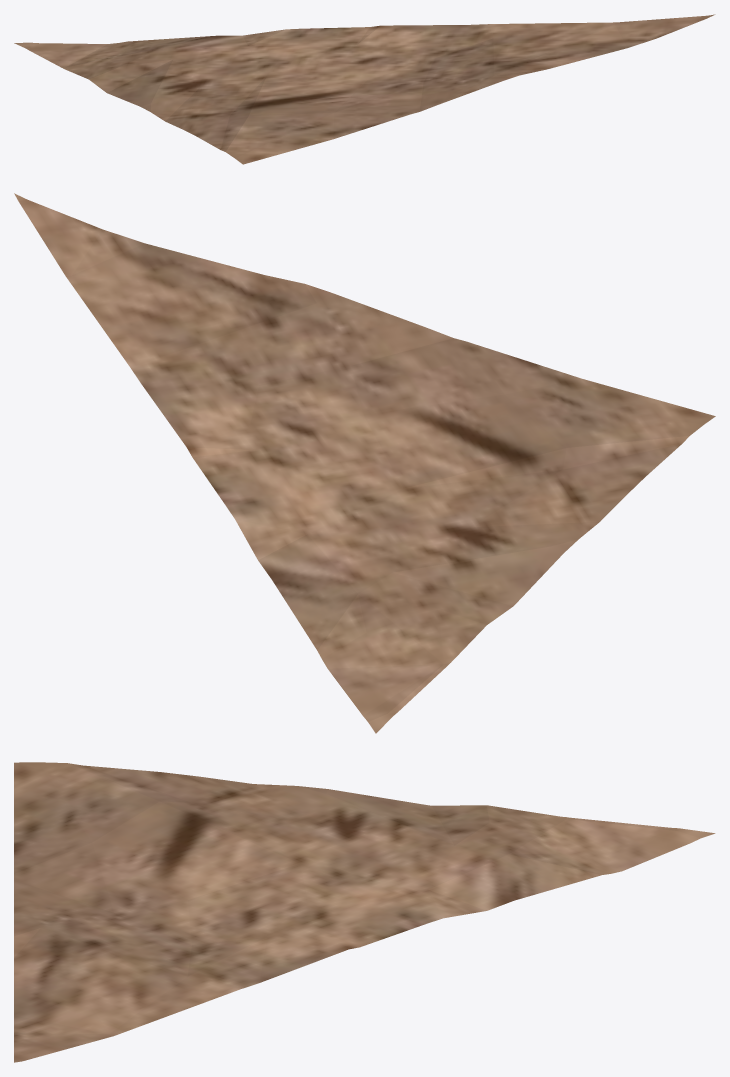
3 renders of one model, top to bottom at view 1: azimuth 30°, elevation 25°; view 2: azimuth 150°, elevation 25°; view 3: azimuth 270°, elevation 25°, orthographic. The views are drawn at different scales.
Bounding box in the file's own units: 4.57 × 0.7491 × 3.84.
Materials: 1 (1 with a texture image).
